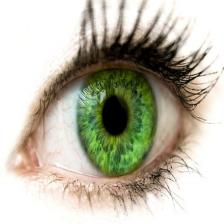green: (77, 69, 157, 176)
